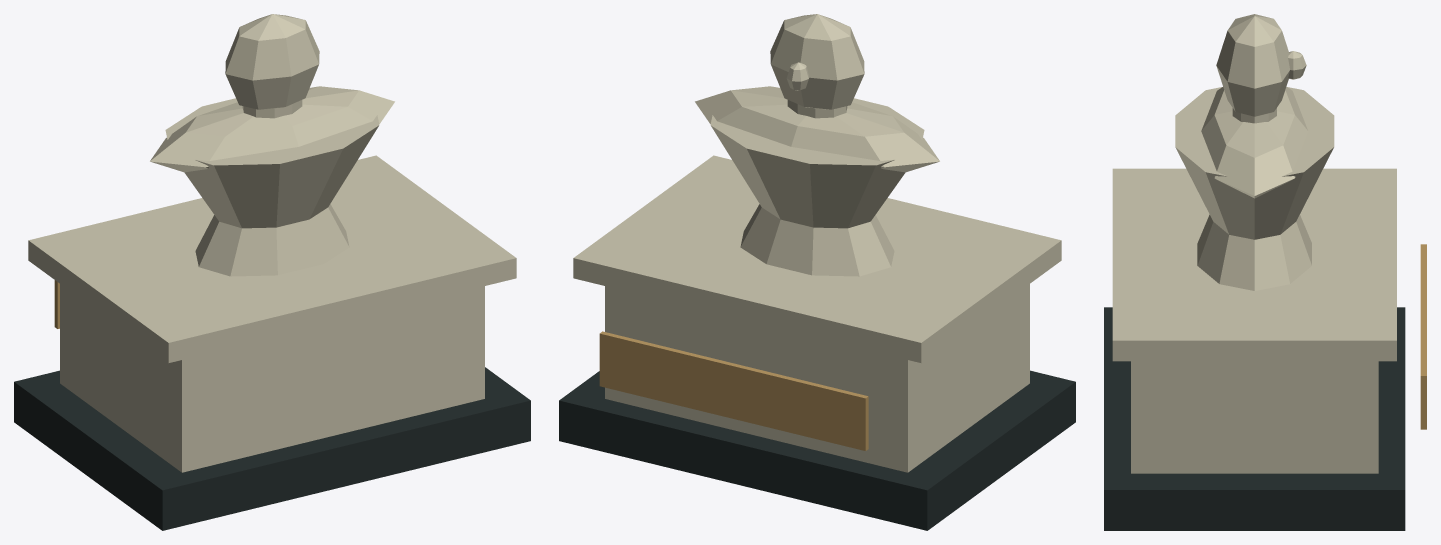
The model's file is LP_Exhibition_CentralSculpture.fbx.
3 views of the same model, side by side, from view 1: azimuth 30°, elevation 25°; view 2: azimuth 150°, elevation 25°; view 3: azimuth 270°, elevation 25° (orthographic).
Visible parts, largest first — view 1: M_Central_Limestone, Charcoal; view 2: M_Central_Limestone, Charcoal, AgedBrass; view 3: M_Central_Limestone, Charcoal, AgedBrass.
Part boxes in pixels (box(x1,y1,x2,y2)): M_Central_Limestone: box(28, 14, 516, 472); Charcoal: box(14, 367, 530, 530); M_Central_Limestone: box(573, 14, 1061, 472); Charcoal: box(559, 370, 1075, 530); AgedBrass: box(599, 331, 868, 450); M_Central_Limestone: box(1112, 14, 1396, 473); Charcoal: box(1104, 307, 1405, 530); AgedBrass: box(1420, 244, 1426, 429).
Size of the model in its own units: 240 by 260 by 179.
